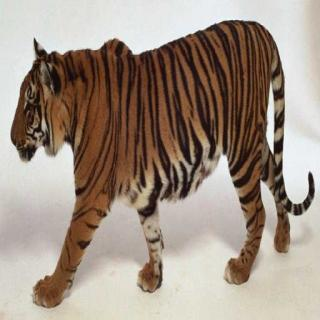Tiger: (0, 15, 320, 314)
